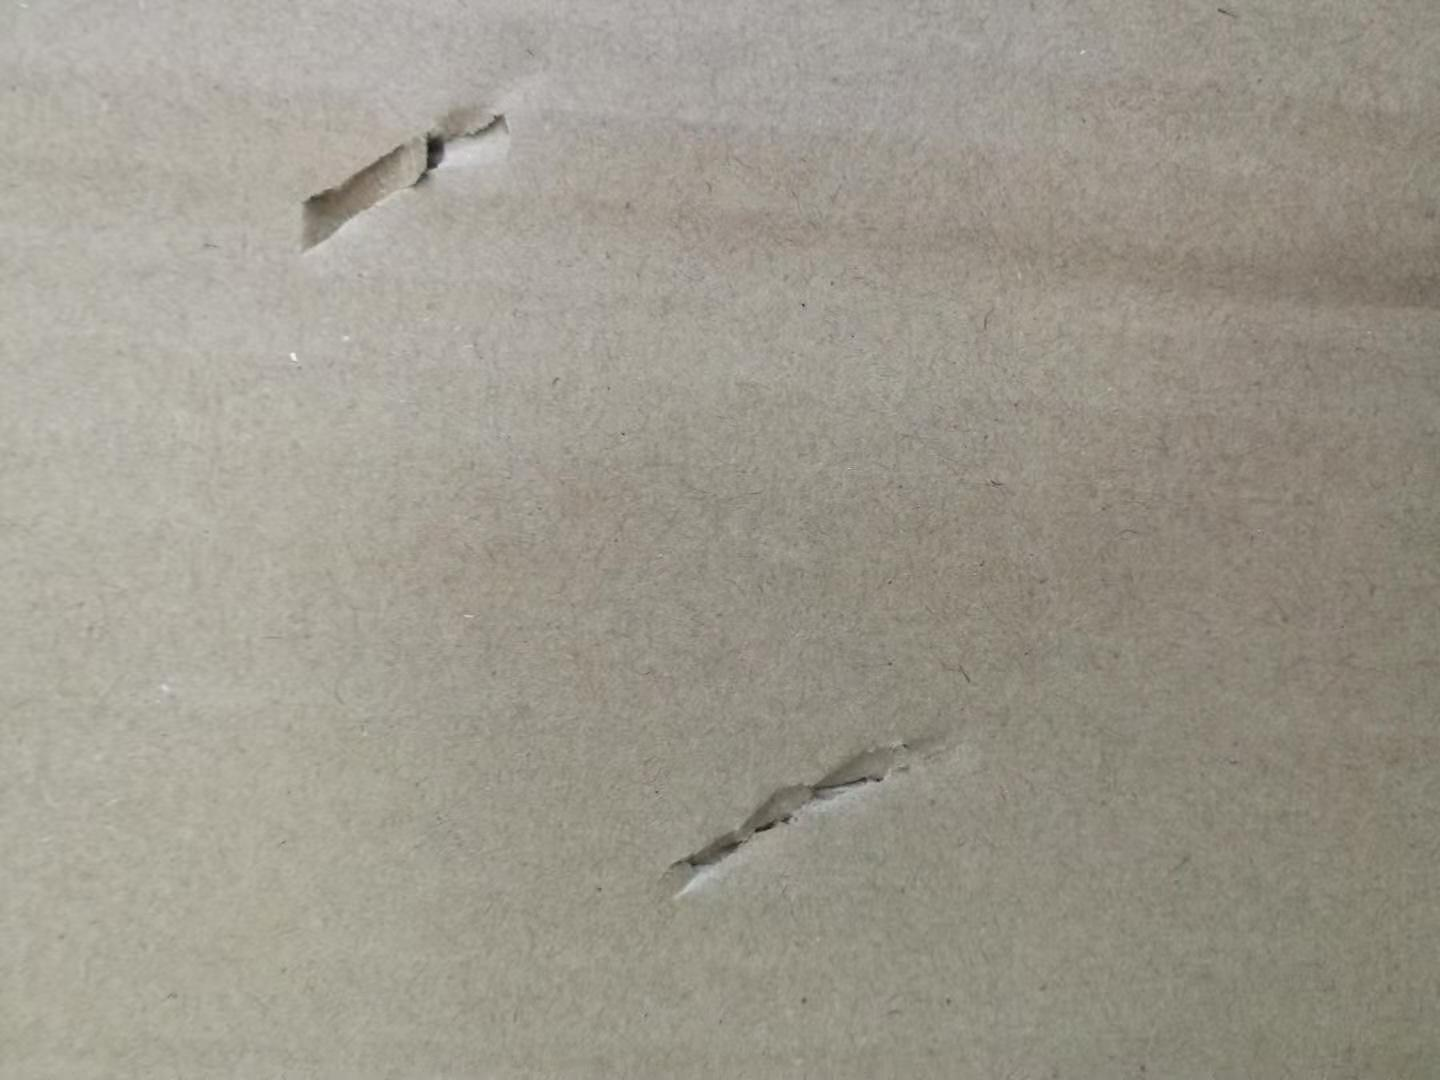defect: (647, 693, 985, 923), (266, 42, 583, 275)
